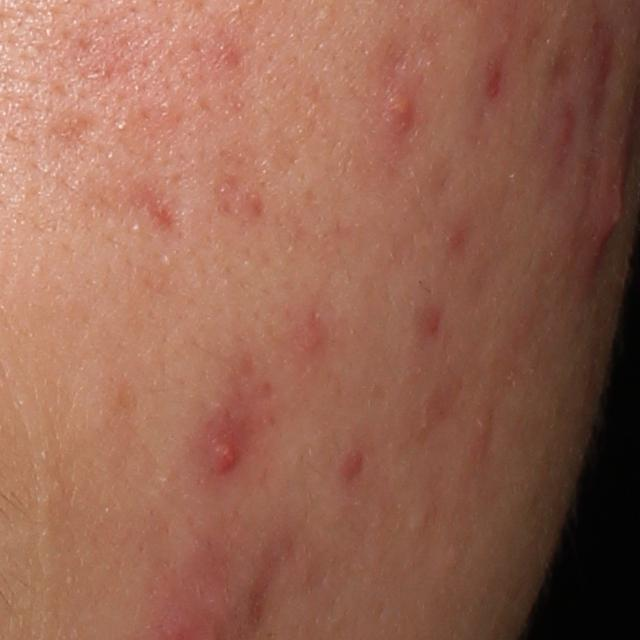atrophic_scar: (127, 175, 193, 237), (39, 108, 102, 150), (550, 39, 580, 93)
papule: (196, 402, 249, 491), (287, 298, 345, 361), (587, 170, 632, 243), (383, 73, 417, 143), (545, 109, 575, 157), (332, 444, 361, 482)
